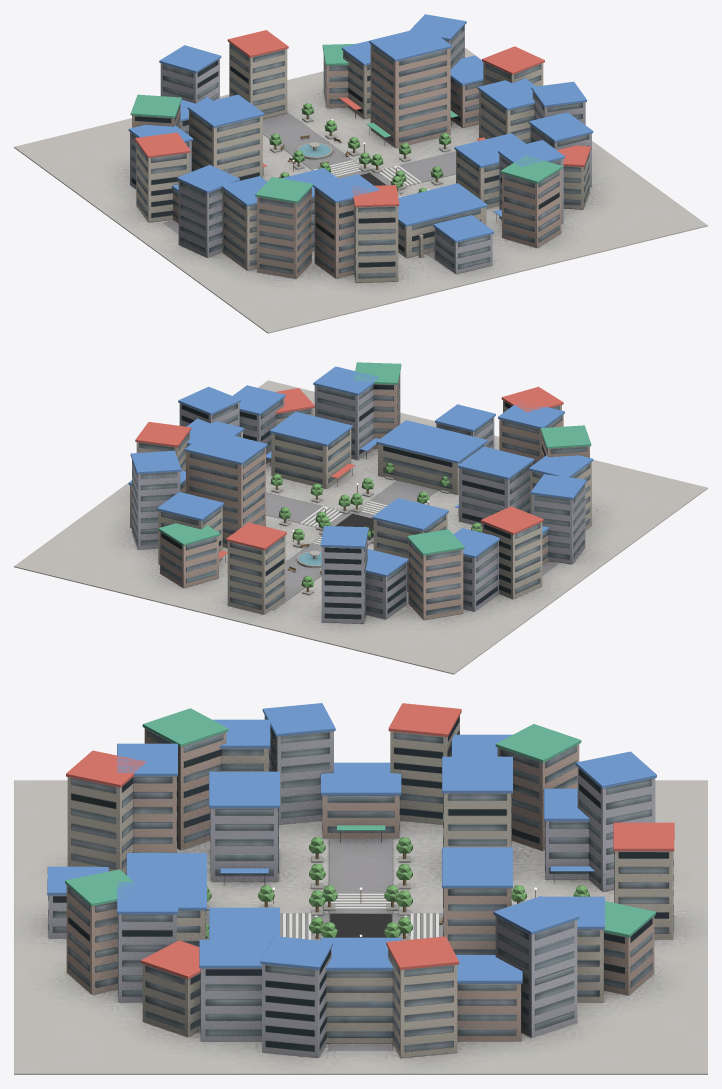
Rendered from city.glb.
The picture shows the model from 3 angles, top to bottom: view 1: azimuth 30°, elevation 25°; view 2: azimuth 150°, elevation 25°; view 3: azimuth 270°, elevation 25°; orthographic projection. The views are drawn at different scales.
Visible parts, largest first — view 1: 統合 舗装, 統合 硝子, 統合 青い日除け, 統合 壁, 統合 壁3, 統合 壁2, 統合 赤い日除け, 統合 車道, 統合 緑の日除け, 統合 葉, 統合 石, 統合 白線; view 2: 統合 舗装, 統合 硝子, 統合 青い日除け, 統合 壁2, 統合 壁, 統合 壁3, 統合 赤い日除け, 統合 車道, 統合 緑の日除け, 統合 葉, 統合 石, 統合 白線; view 3: 統合 舗装, 統合 硝子, 統合 青い日除け, 統合 壁2, 統合 壁, 統合 壁3, 統合 赤い日除け, 統合 車道, 統合 緑の日除け, 統合 葉, 統合 白線, 統合 石.
Boxes of the visible parts, x1=… form: 統合 舗装: x1=14, y1=48, x2=707, y2=333; 統合 硝子: x1=131, y1=26, x2=589, y2=278; 統合 青い日除け: x1=128, y1=14, x2=593, y2=242; 統合 壁: x1=136, y1=43, x2=589, y2=282; 統合 壁3: x1=132, y1=44, x2=561, y2=278; 統合 壁2: x1=130, y1=25, x2=591, y2=274; 統合 赤い日除け: x1=135, y1=30, x2=591, y2=207; 統合 車道: x1=163, y1=113, x2=455, y2=269; 統合 緑の日除け: x1=130, y1=43, x2=562, y2=203; 統合 葉: x1=269, y1=103, x2=478, y2=192; 統合 石: x1=270, y1=116, x2=450, y2=194; 統合 白線: x1=313, y1=160, x2=421, y2=197; 統合 舗装: x1=14, y1=380, x2=707, y2=674; 統合 硝子: x1=132, y1=373, x2=590, y2=619; 統合 青い日除け: x1=128, y1=366, x2=593, y2=576; 統合 壁2: x1=132, y1=384, x2=585, y2=623; 統合 壁: x1=136, y1=400, x2=591, y2=614; 統合 壁3: x1=130, y1=374, x2=589, y2=619; 統合 赤い日除け: x1=135, y1=386, x2=563, y2=558; 統合 車道: x1=266, y1=480, x2=557, y2=610; 統合 緑の日除け: x1=158, y1=362, x2=591, y2=555; 統合 葉: x1=270, y1=462, x2=482, y2=587; 統合 石: x1=271, y1=476, x2=449, y2=595; 統合 白線: x1=300, y1=501, x2=387, y2=544; 統合 舗装: x1=14, y1=780, x2=707, y2=1074; 統合 硝子: x1=48, y1=716, x2=673, y2=1051; 統合 青い日除け: x1=47, y1=703, x2=656, y2=983; 統合 壁2: x1=48, y1=715, x2=655, y2=1057; 統合 壁: x1=67, y1=715, x2=672, y2=1058; 統合 壁3: x1=66, y1=728, x2=654, y2=1041; 統合 赤い日除け: x1=66, y1=703, x2=674, y2=979; 統合 車道: x1=206, y1=838, x2=442, y2=1050; 統合 緑の日除け: x1=65, y1=708, x2=655, y2=937; 統合 葉: x1=205, y1=837, x2=589, y2=938; 統合 白線: x1=283, y1=893, x2=438, y2=939; 統合 石: x1=206, y1=856, x2=514, y2=940.
Size of the model in its own units: 143 by 28.06 by 143.
16 materials, 11 textured.
